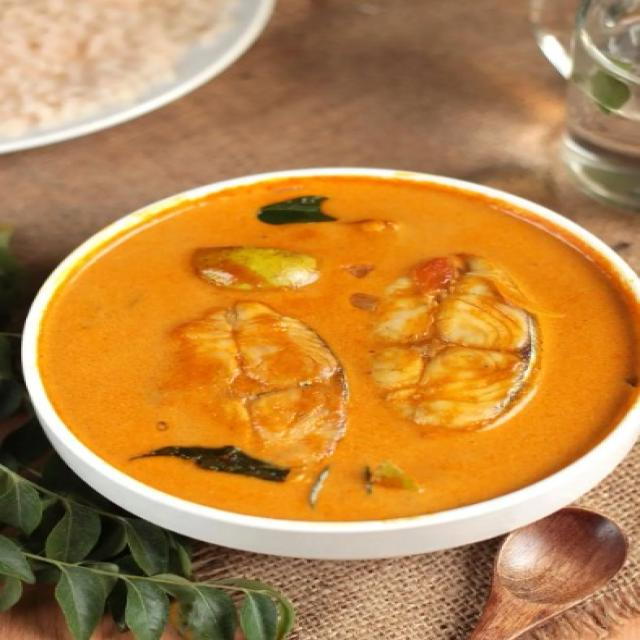FISH CURRY: (47, 184, 638, 516)
